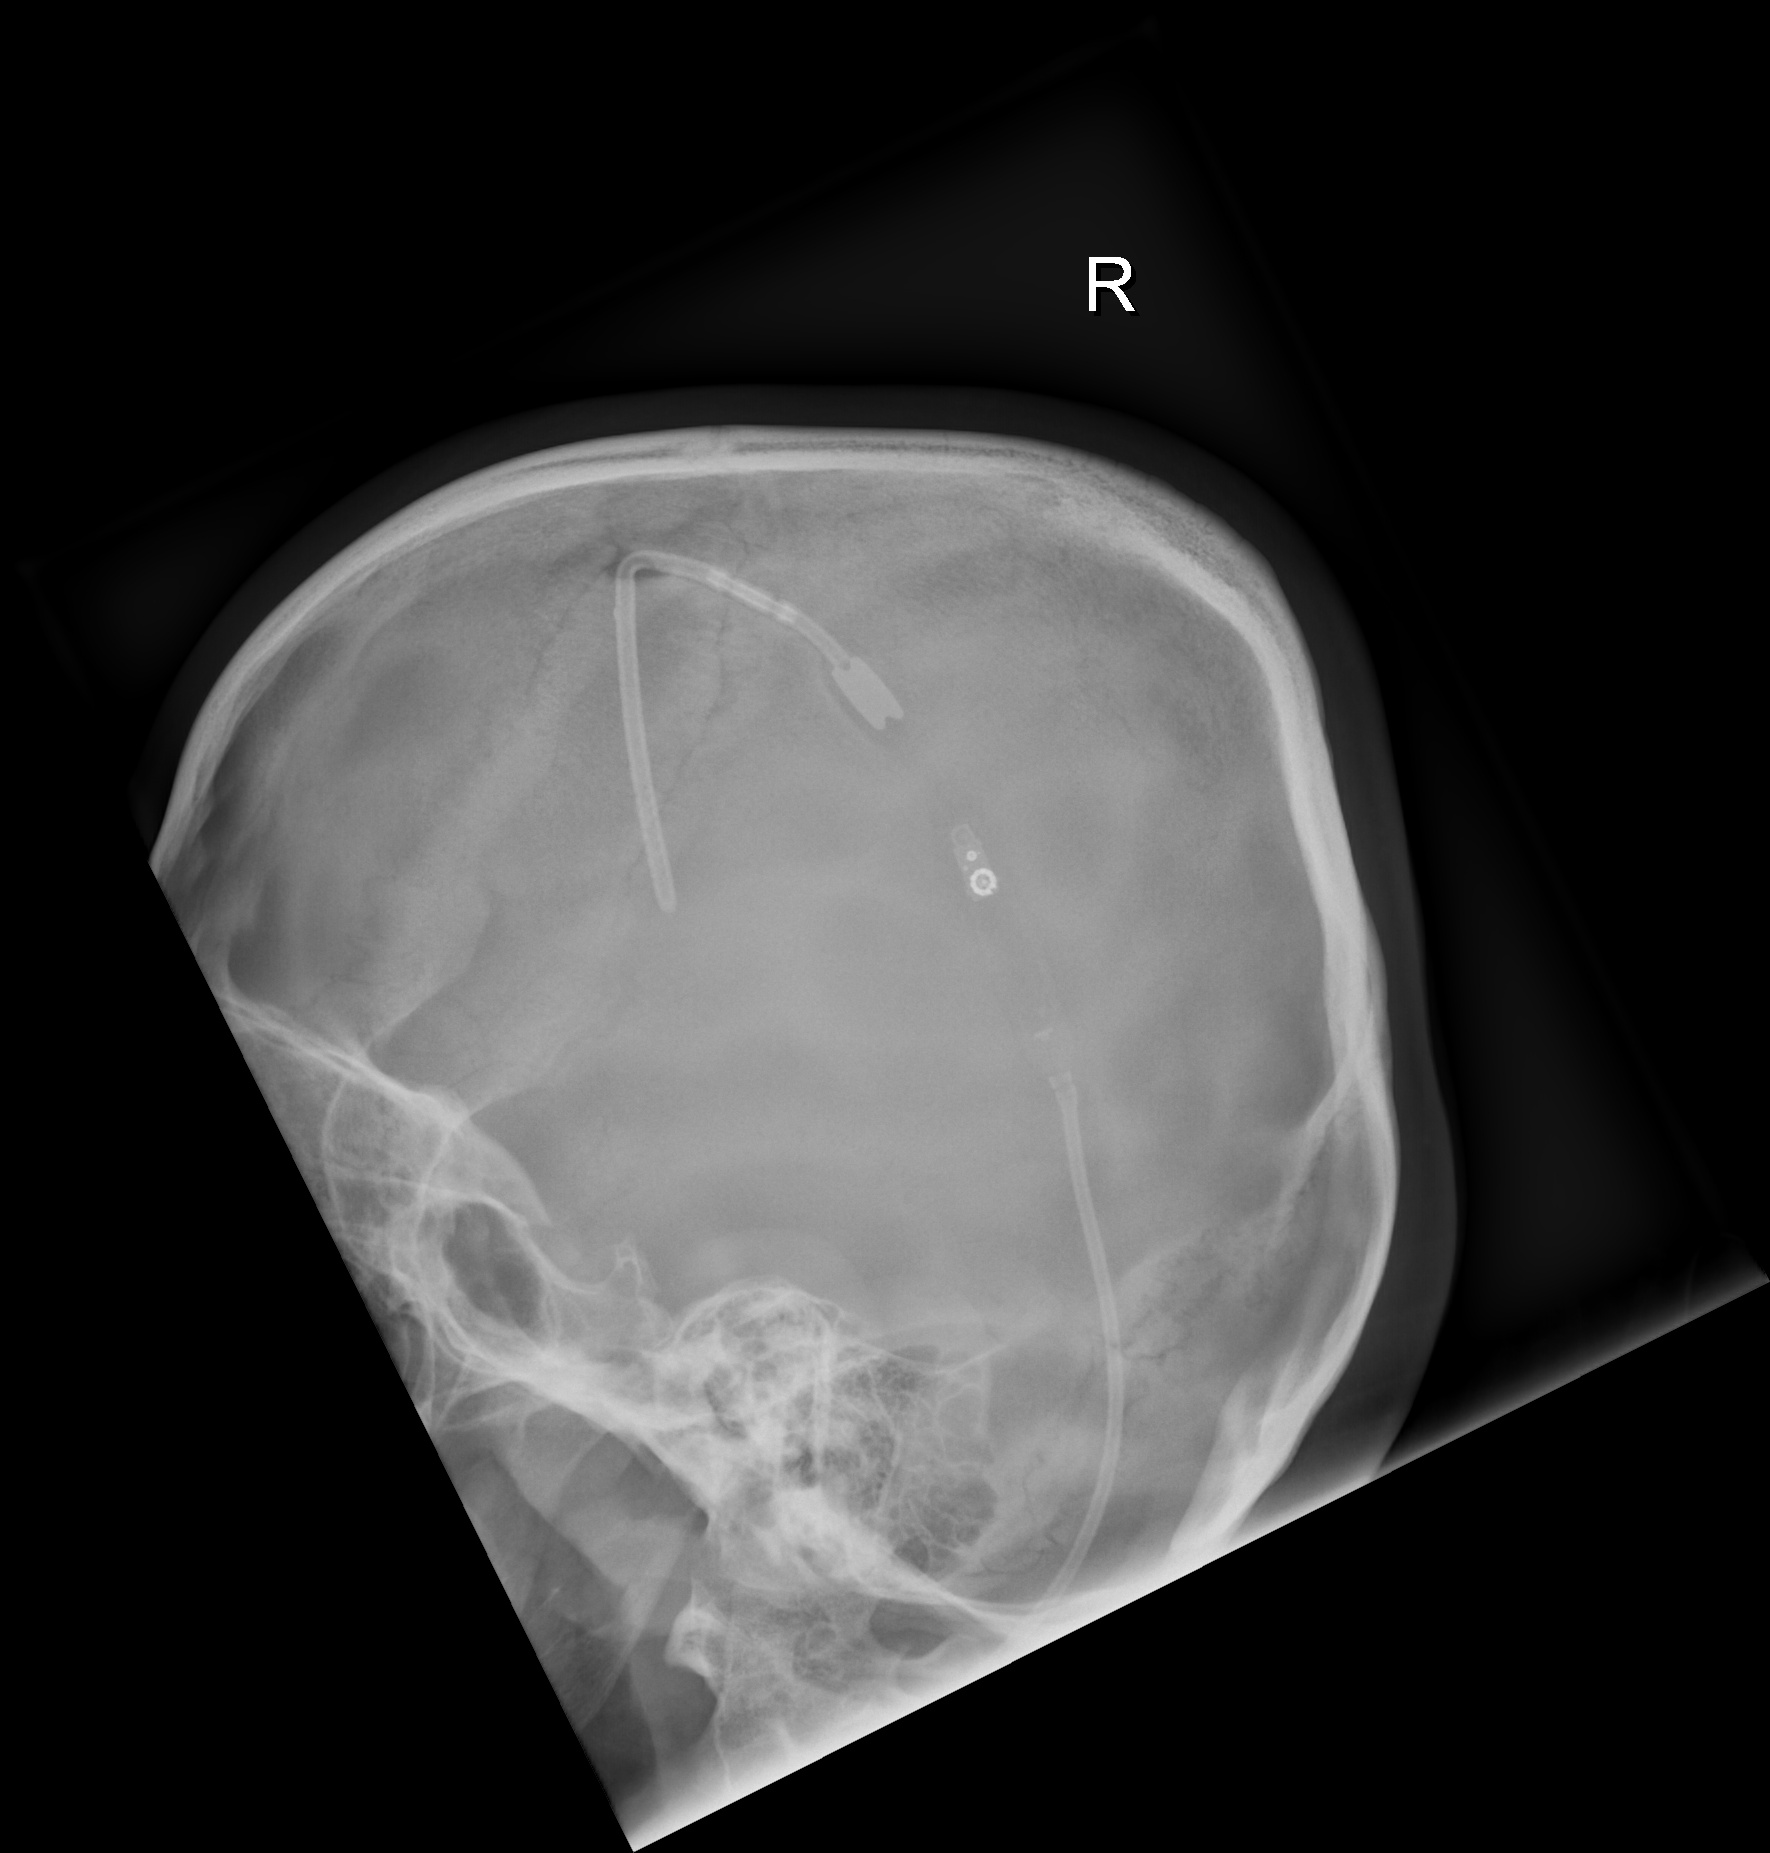Codman Hakim: (946, 844, 1014, 915)
